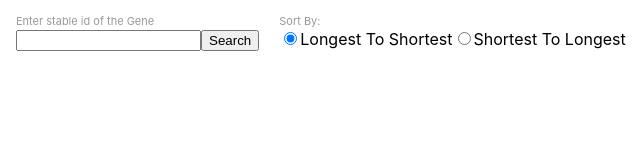
Test: Error Handling › should handle and display error message when gene does not exist
The image size is (643, 160).
Type "ASDASDE" into the field with test id "search-form_input" at [109, 41], box [16, 30, 201, 51]
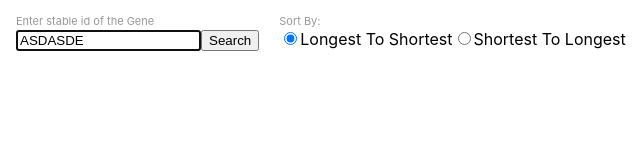
Click the button with test id "search-form_button" at [230, 41], box [201, 30, 259, 51]
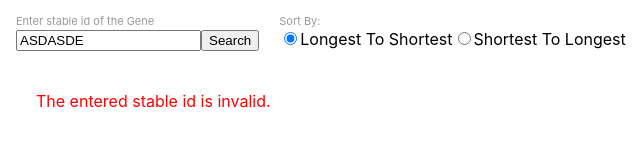
Now the text with test id "error" reads "The entered stable id is invalid.", box [36, 91, 271, 111]
